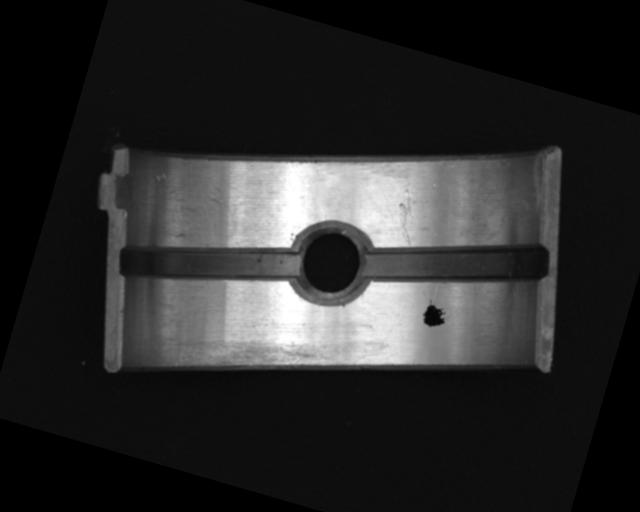blot: (419, 297, 451, 331)
bruise: (206, 194, 229, 208), (152, 170, 169, 184)
gap: (360, 201, 551, 326), (114, 206, 304, 322)
hole: (281, 215, 377, 313)
nick: (386, 187, 425, 247)
scratch: (167, 307, 339, 408)
